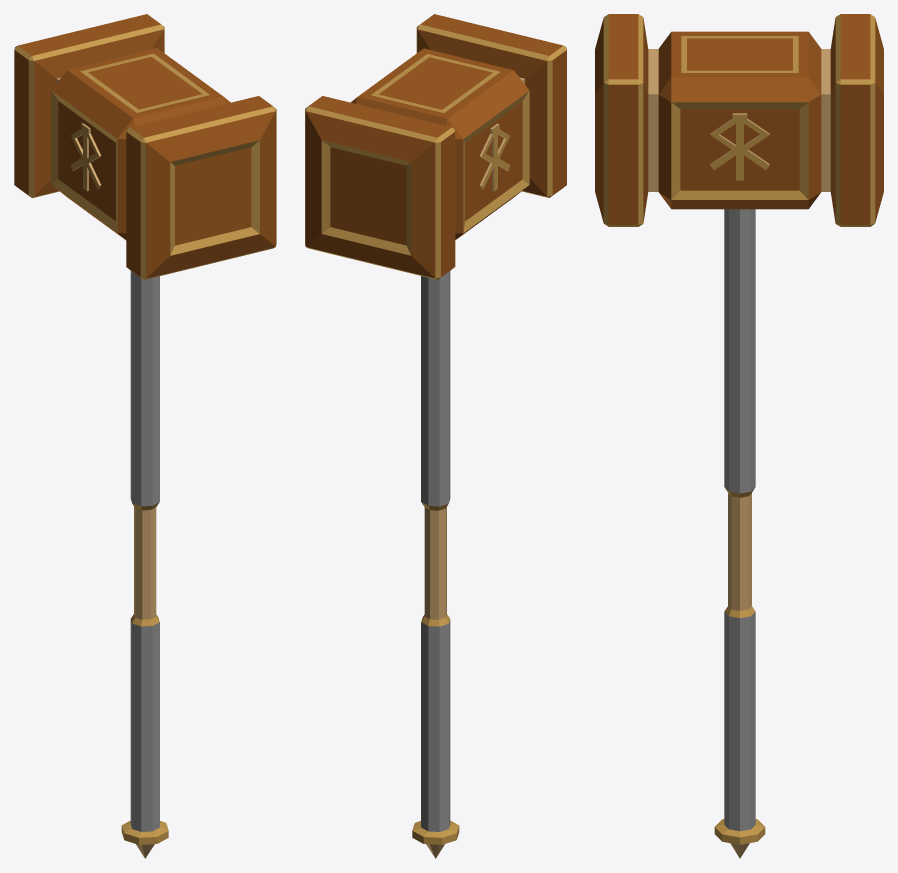
Rendered from DwarfHammerBrown.obj.
3 views of the same model, side by side, from view 1: azimuth 30°, elevation 25°; view 2: azimuth 150°, elevation 25°; view 3: azimuth 270°, elevation 25° (orthographic). The views are drawn at different scales.
Parts seen in each view (by area): view 1: Cylinder; view 2: Cylinder; view 3: Cylinder.
Boxes of the visible parts, box(x1,y1,x2,y2) form: Cylinder: box(14, 14, 276, 858); Cylinder: box(305, 14, 566, 858); Cylinder: box(595, 14, 883, 858).
Size of the model in its own units: 1.34 by 7.37 by 2.38.
